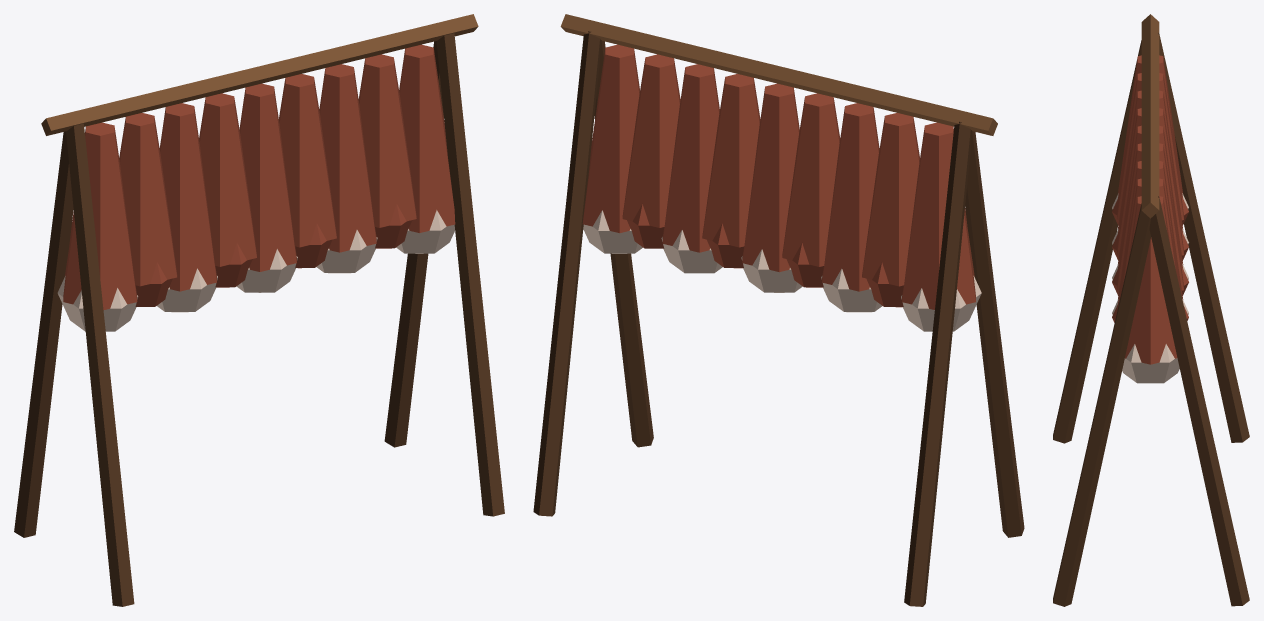
The model's file is pile_meat_3.glb.
3 renders of one model, left to right at view 1: azimuth 30°, elevation 25°; view 2: azimuth 150°, elevation 25°; view 3: azimuth 270°, elevation 25°, orthographic. The views are drawn at different scales.
Visible parts, largest first — view 1: pile_meat_3; view 2: pile_meat_3; view 3: pile_meat_3.
Boxes of the visible parts, bbox=[...] form: pile_meat_3: bbox=[14, 14, 504, 606]; pile_meat_3: bbox=[533, 14, 1024, 606]; pile_meat_3: bbox=[1053, 14, 1249, 606].
Size of the model in its own units: 1.5 by 1.54 by 0.6621.
